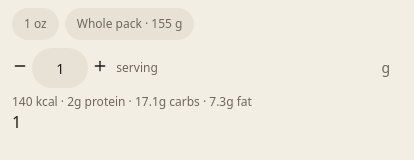
Scenario: ServingAmount › a packaged food › offers the label serving back after the whole pack was chosen
Click the button "Whole pack · 155 g" at (130, 24), box [65, 8, 194, 40]
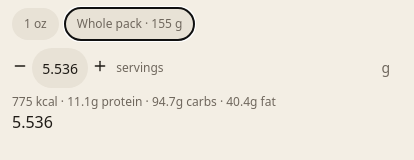
Click the button "1 oz" at (35, 24), box [12, 8, 59, 40]
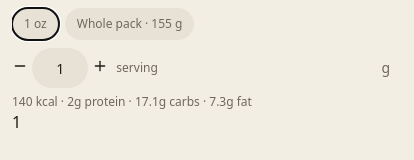
Now the text with test id "amount" reads "1", box [12, 111, 21, 133]
